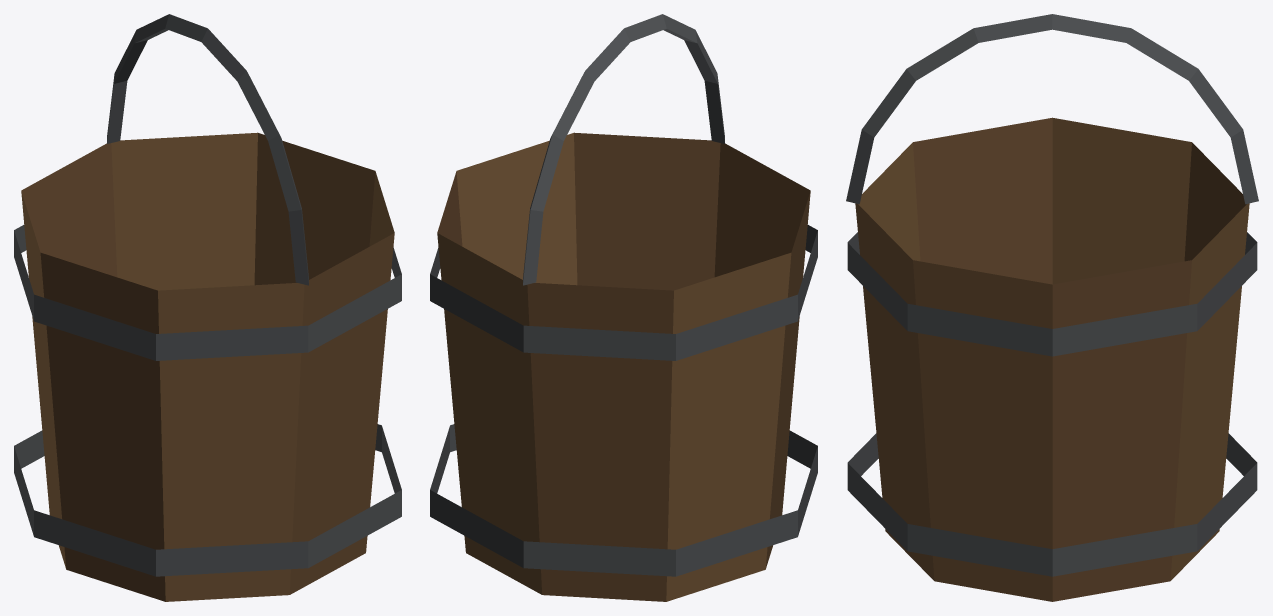
File: f8_spand.glb
3 views of the same model, side by side, from view 1: azimuth 30°, elevation 25°; view 2: azimuth 150°, elevation 25°; view 3: azimuth 270°, elevation 25° (orthographic). The views are drawn at different scales.
Visible parts, largest first — view 1: F_traespand; view 2: F_traespand; view 3: F_traespand.
Part boxes in pixels (bbox=[...]): F_traespand: bbox=[14, 14, 401, 601]; F_traespand: bbox=[430, 14, 817, 601]; F_traespand: bbox=[846, 14, 1258, 601].
Bounding box in the file's own units: 0.27 × 0.376 × 0.272.
